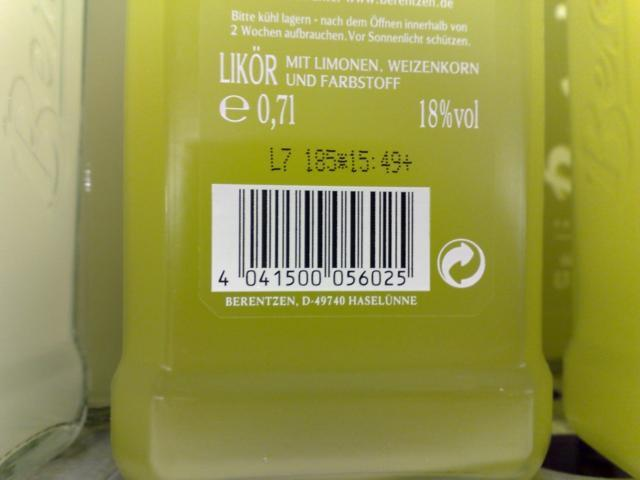Barcode: (210, 184, 432, 292)
